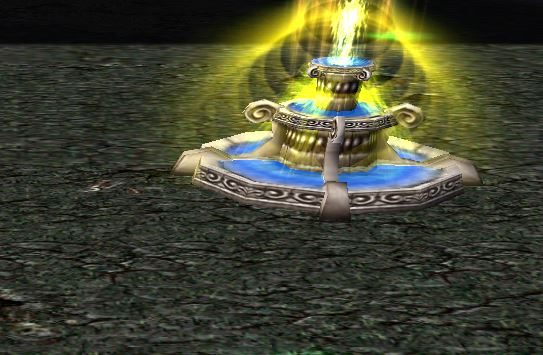sunwell: (184, 48, 493, 207)
